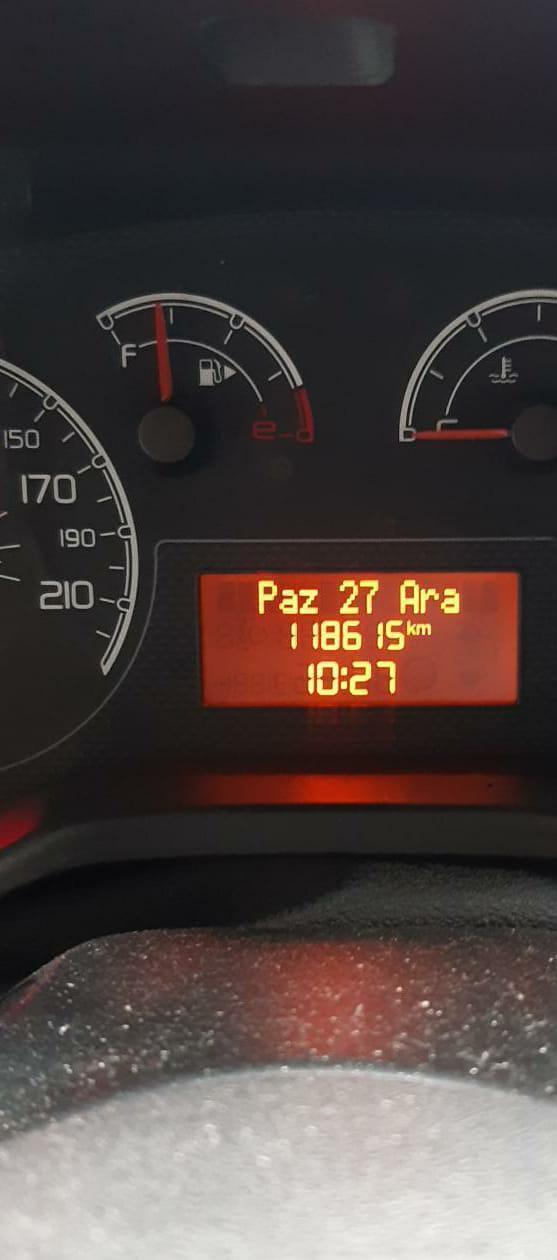0: (316, 659, 339, 697)
1: (285, 618, 300, 653), (303, 660, 317, 697), (375, 619, 385, 653), (311, 618, 319, 654)
2: (338, 577, 361, 616), (349, 658, 372, 695)
5: (385, 617, 405, 651)
6: (343, 618, 363, 652)
7: (359, 577, 382, 616), (376, 658, 399, 694)
8: (320, 617, 342, 653)
X: (399, 577, 420, 614), (257, 578, 276, 617), (441, 585, 463, 615), (299, 586, 320, 615), (420, 585, 440, 615), (280, 587, 299, 614), (339, 663, 348, 694), (416, 622, 431, 636), (406, 618, 416, 636)
odometer: (202, 569, 521, 710)
